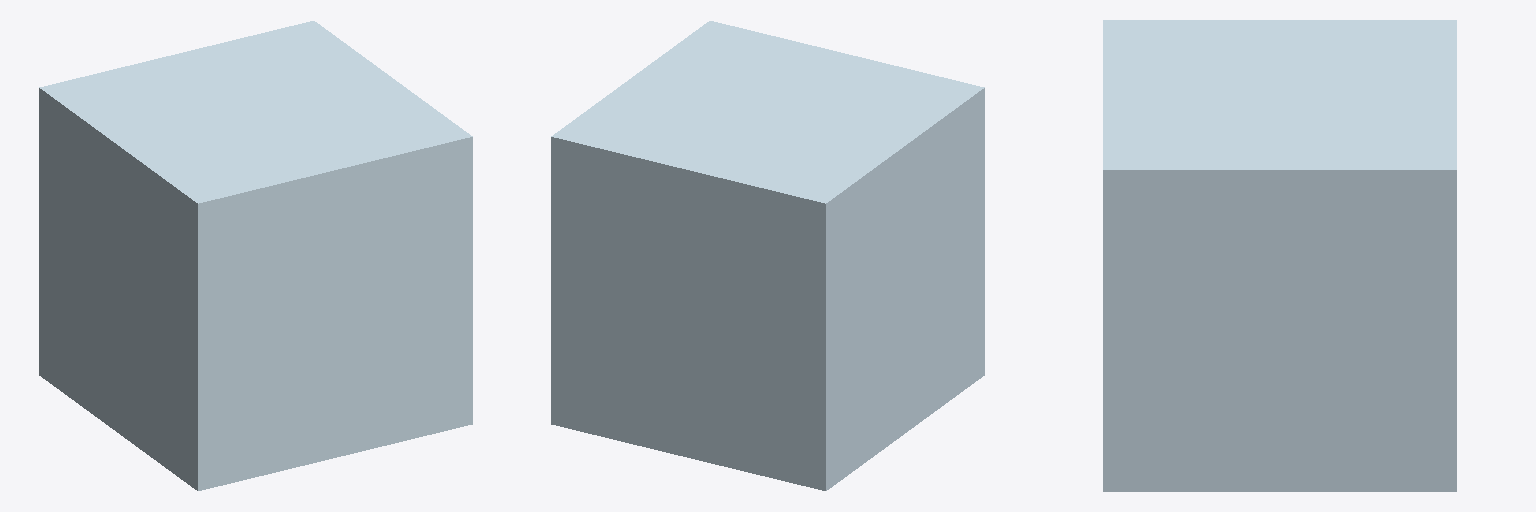
The robot description file, URDF, robot "montessori_object_3":
<?xml version="1.0" ?>
<robot name="montessori_object_3" version="1.0">
  <link name="montessori_object_3">
    <inertial>
      <origin xyz="0.0 0.0 0.0" rpy="0.0 0.0 0.0"/>
      <mass value="0.027000000700354576"/>
      <inertia ixx="4.0499999158782884e-06" ixy="0.0" ixz="0.0" iyy="4.0499999158782884e-06" iyz="0.0" izz="4.0499999158782884e-06"/>
    </inertial>
    <visual name="MontessoriObject3">
      <origin xyz="0.0 0.0 0.0" rpy="0.0 0.0 0.0"/>
      <geometry>
        <box size="0.029999999329447746 0.029999999329447746 0.029999999329447746"/>
      </geometry>
      <material name="MontessoriObject3_material">
        <color rgba="0.87 0.94 0.98 1.0"/>
      </material>
    </visual>
  </link>
</robot>

--- Render facts (derived) ---
3 views of the same robot in one strip: view 1: azimuth 30°, elevation 25°; view 2: azimuth 150°, elevation 25°; view 3: azimuth 270°, elevation 25° (orthographic).
Model montessori_object_3 with 1 links and 0 joints (none), rooted at montessori_object_3, posed every joint at zero.
Visible links, largest first — view 1: montessori_object_3; view 2: montessori_object_3; view 3: montessori_object_3.
Boxes of the visible links, <box> form: montessori_object_3: <box>39,21,472,490</box>; montessori_object_3: <box>551,21,984,490</box>; montessori_object_3: <box>1103,20,1456,491</box>.
Size in the robot's own frame: 0.03 by 0.03 by 0.03 metres.
Geometry: primitives only (box / cylinder / sphere), no mesh files.